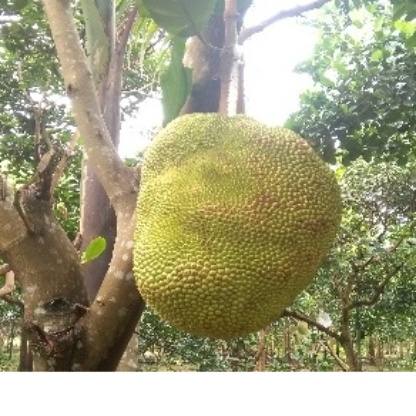mit: (135, 123, 333, 326)
